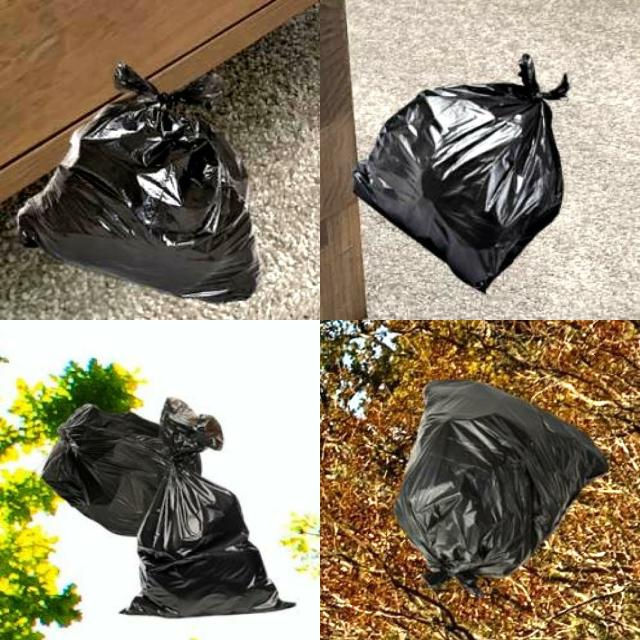Single-layer Plastic: (18, 62, 260, 302), (354, 55, 569, 292), (395, 381, 609, 591), (122, 399, 295, 617), (42, 404, 165, 536)
